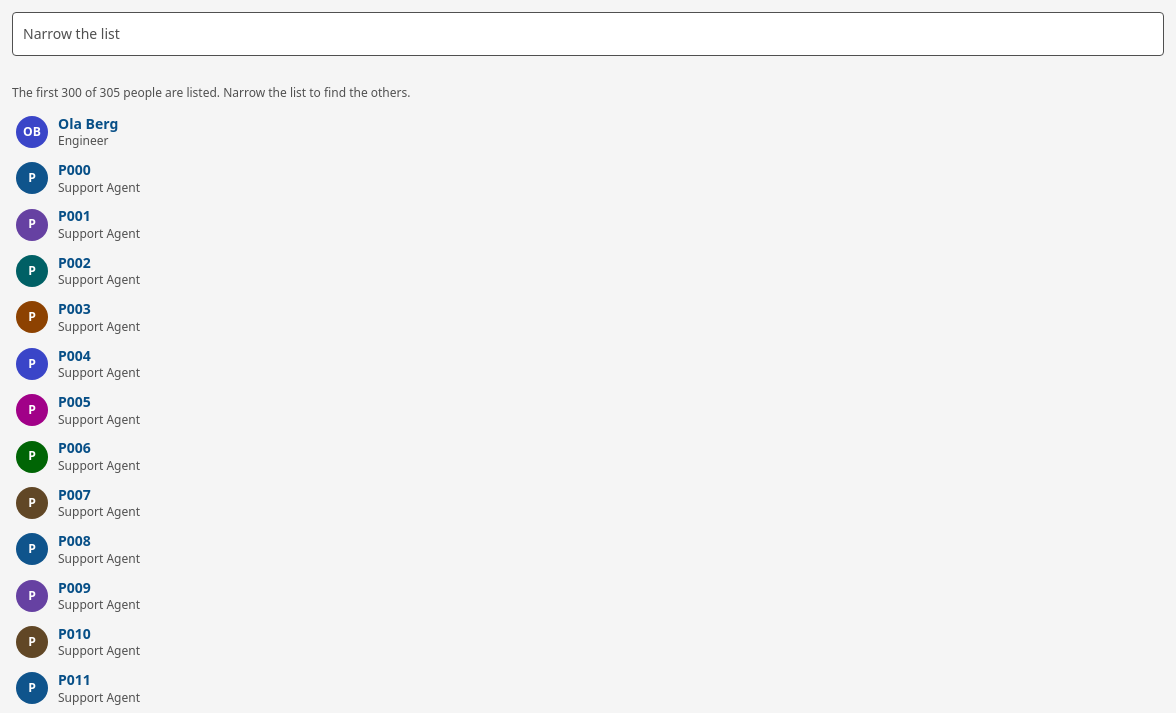
Test: PeopleList › a long list › shows at most 300 people, says so above them, and lets the field narrow down the rest
Step 1. Type "p303" into the search field labelled "Narrow the list" → (588, 34), box [12,12,1164,56]
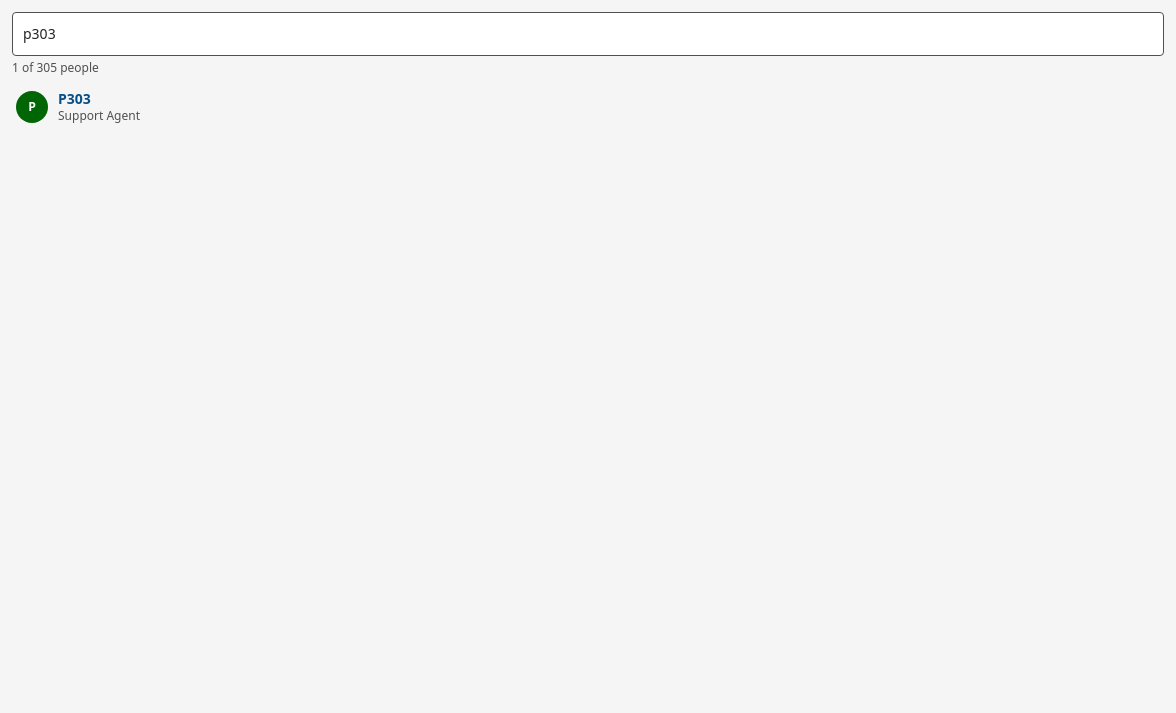
Expected: the text "are listed" is gone
